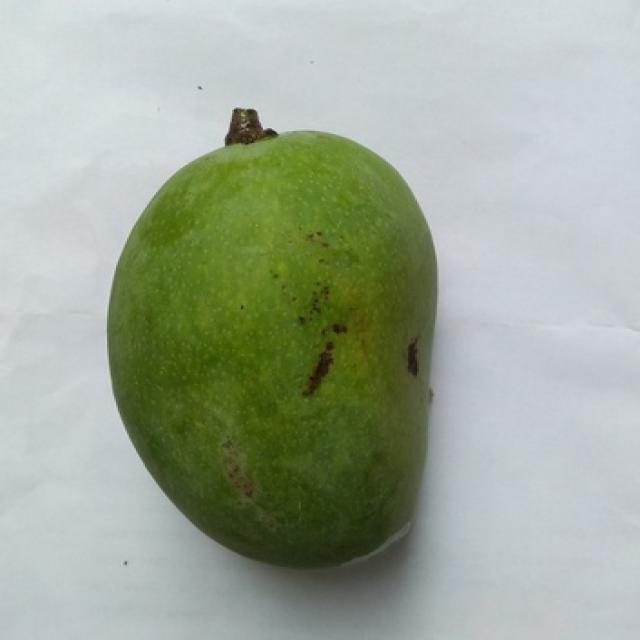Mango: (109, 109, 435, 566)
